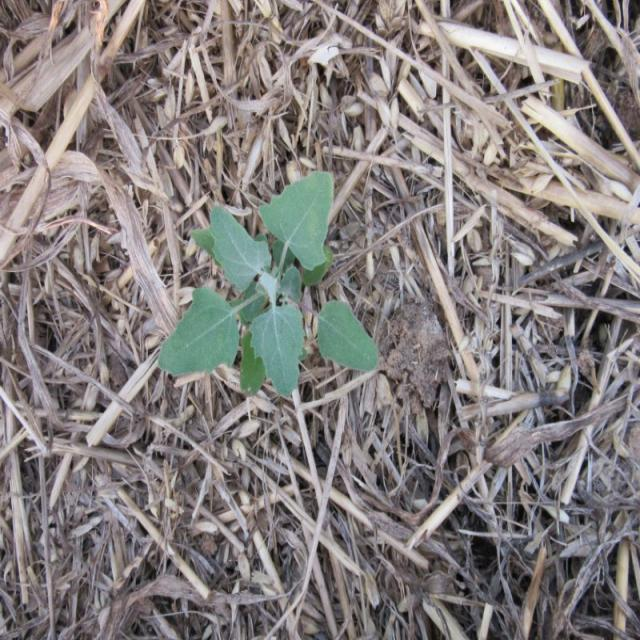ca: (160, 171, 382, 400)
